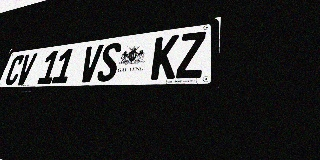1: (51, 48, 76, 84), (37, 50, 61, 84)
C: (3, 55, 26, 85)
K: (150, 34, 179, 80)
S: (96, 42, 122, 82)
V: (78, 44, 104, 83), (15, 53, 38, 85)
Z: (176, 31, 206, 79)
